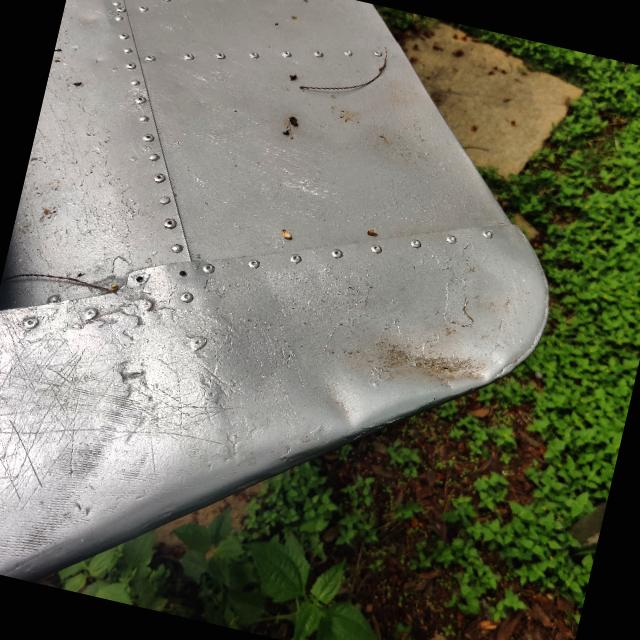dent: (276, 342, 397, 466)
